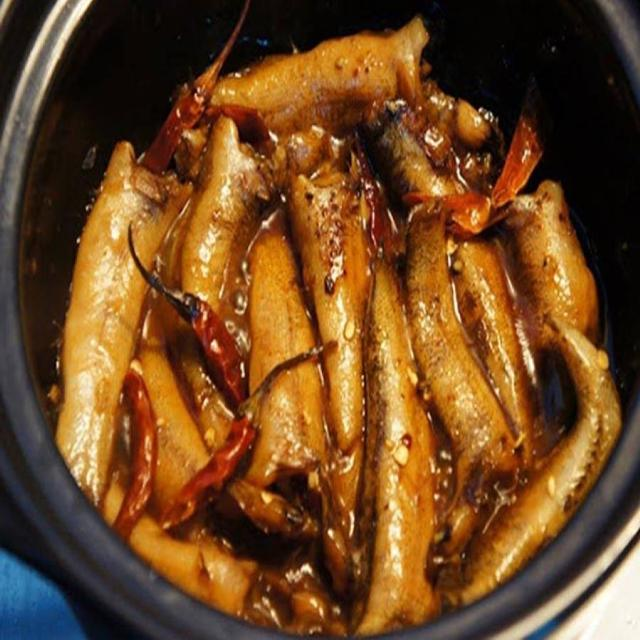ca kho: (56, 17, 621, 634)
